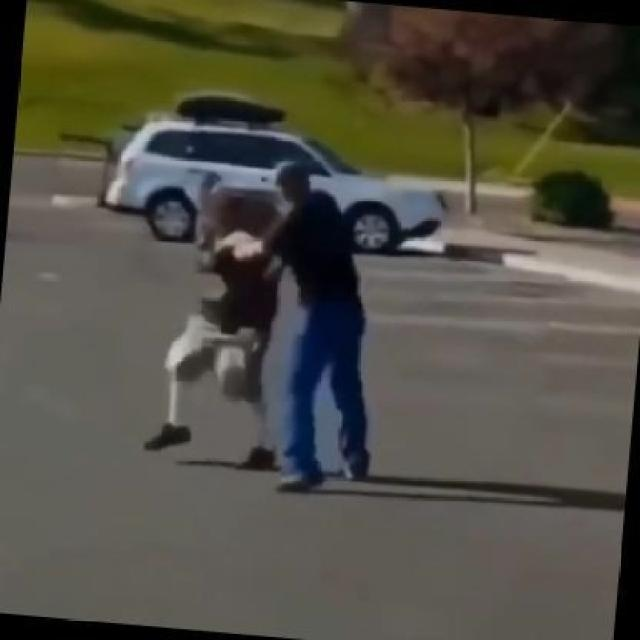fight: (166, 148, 377, 500)
